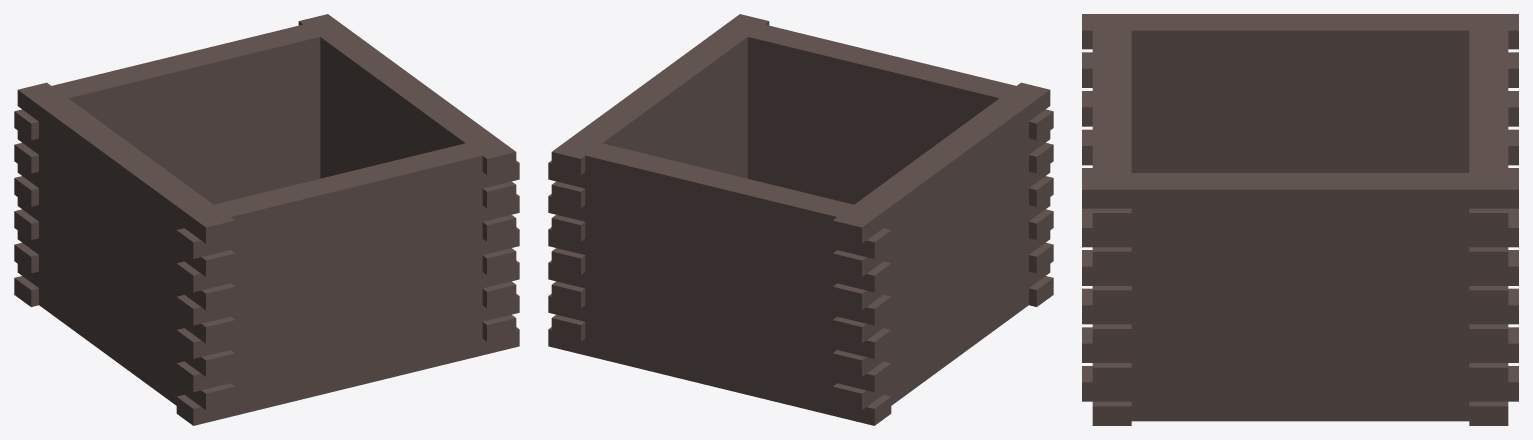
3 views of the same model, side by side, from view 1: azimuth 30°, elevation 25°; view 2: azimuth 150°, elevation 25°; view 3: azimuth 270°, elevation 25° (orthographic). The views are drawn at different scales.
Parts seen in each view (by area): view 1: Group_222; view 2: Group_222; view 3: Group_222.
Boxes of the visible parts, x1,y1,x2,y2 form: Group_222: (14,14,519,425); Group_222: (548,14,1053,425); Group_222: (1082,14,1518,425).
Bounding box in the file's own units: 8.07 × 4.72 × 8.07.
